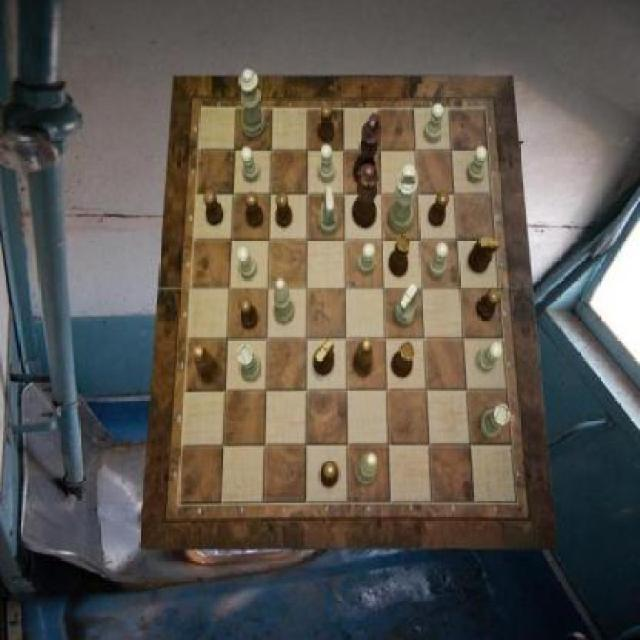bishop: (194, 346, 220, 385), (354, 338, 374, 377)
black-bishop: (354, 114, 381, 188)
black-king: (469, 238, 500, 274), (312, 337, 335, 375)
black-knight: (477, 288, 501, 322), (204, 190, 224, 226), (428, 191, 448, 227), (318, 103, 336, 142), (238, 297, 258, 329), (245, 192, 262, 228), (277, 192, 294, 228), (320, 462, 338, 488)
black-pawn: (352, 163, 380, 229)
black-queen: (389, 234, 412, 278), (390, 342, 414, 379)
black-rook: (274, 278, 294, 324), (356, 452, 378, 486)
white-bishop: (389, 166, 419, 234)
white-king: (396, 284, 418, 328), (318, 188, 338, 235)
white-knight: (424, 104, 444, 144), (477, 342, 503, 372), (428, 242, 448, 278), (468, 146, 488, 182), (237, 246, 257, 280), (318, 145, 336, 182), (242, 148, 260, 182), (357, 243, 375, 275)
white-pawn: (238, 70, 266, 138)
white-queen: (480, 405, 510, 439), (238, 345, 262, 382)
